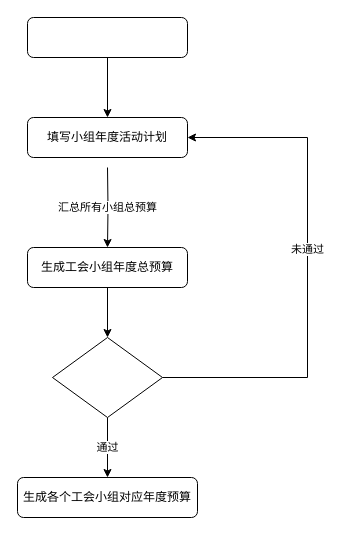
This 341x535 diagram has some shape labels left out. Each missing label, with the centre of its shape:
发起工会小组年度计划征集: (107,37)
审批: (107,377)
